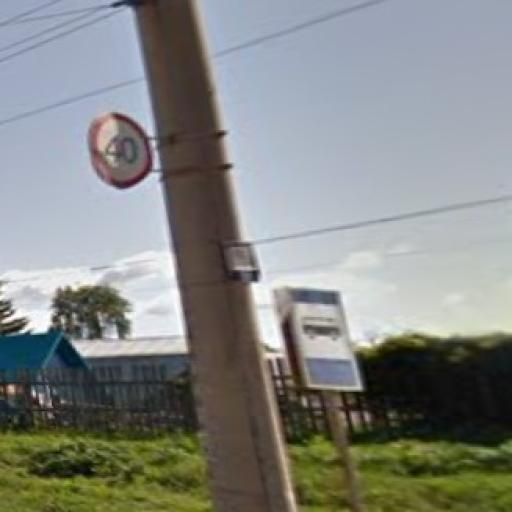traffic_sign: (283, 286, 363, 395), (87, 112, 155, 190)
